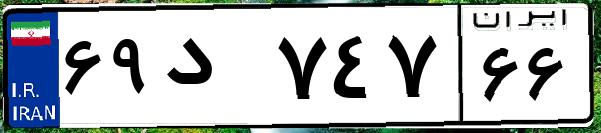4: (330, 28, 385, 110)
6: (57, 26, 110, 100), (475, 38, 525, 113), (525, 38, 570, 115)
7: (270, 28, 330, 110), (385, 28, 445, 110)
9: (110, 28, 158, 98)
د: (158, 20, 270, 120)
